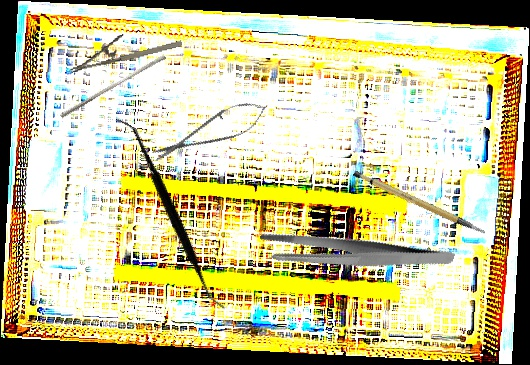Dressing Forceps: (254, 191, 456, 315)
Micro Scissor: (147, 92, 272, 172)
Needle Holder: (63, 22, 184, 74)
Pusher: (59, 50, 167, 123)
Scalpel Handle: (351, 153, 487, 255)
Spatula Surgical: (60, 117, 281, 311)
